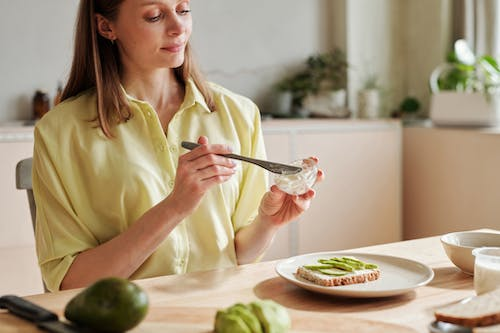knife: (216, 153, 303, 176)
